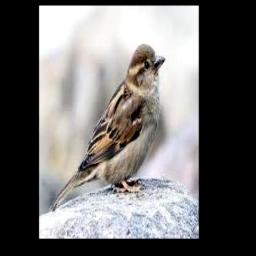Sparrow: (50, 44, 164, 211)
